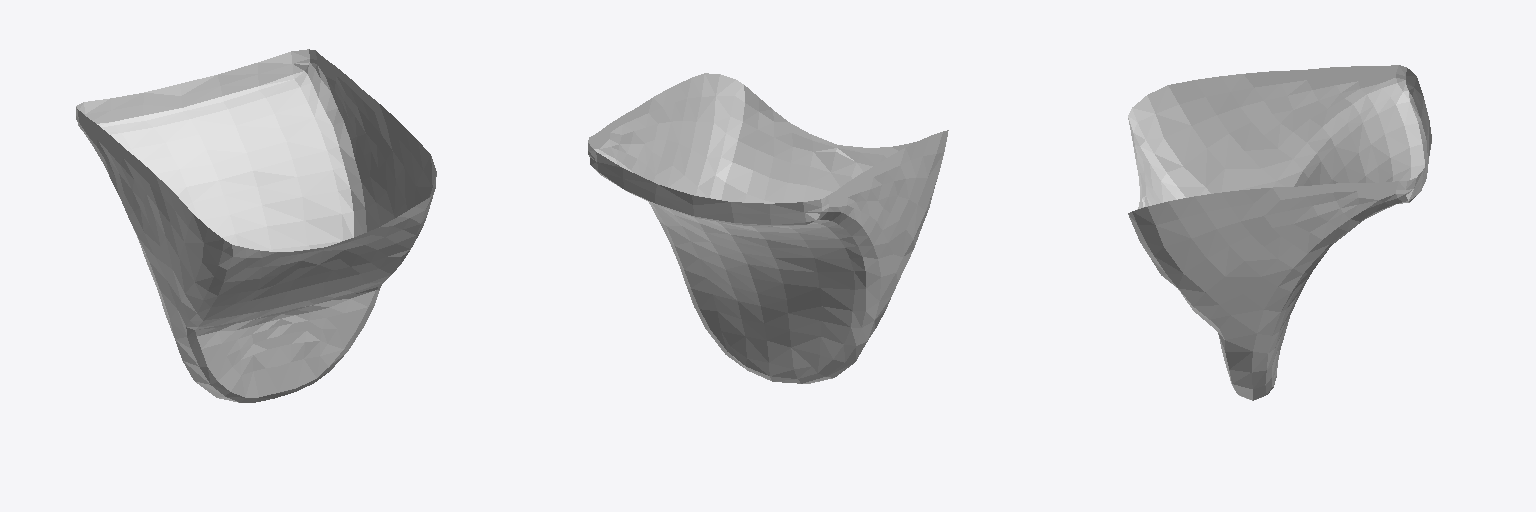
The model's file is right_trigger.obj.
3 renders of one model, left to right at view 1: azimuth 30°, elevation 25°; view 2: azimuth 150°, elevation 25°; view 3: azimuth 270°, elevation 25°, orthographic.
Parts seen in each view (by area): view 1: right_trigger; view 2: right_trigger; view 3: right_trigger.
Boxes of the visible parts, x1=… form: right_trigger: x1=76, y1=49, x2=436, y2=402; right_trigger: x1=588, y1=73, x2=948, y2=383; right_trigger: x1=1128, y1=65, x2=1431, y2=400.
Bounding box in the file's own units: 0.0198 × 0.0211 × 0.0219.